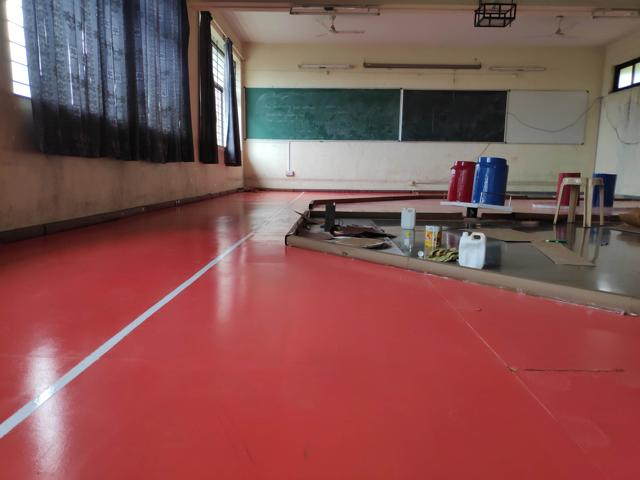Blue: (473, 156, 512, 204)
Red: (448, 161, 474, 203)
